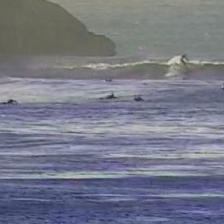surfer: (98, 94, 117, 100), (180, 54, 189, 65), (3, 99, 16, 105), (134, 96, 143, 102), (220, 82, 223, 91)
